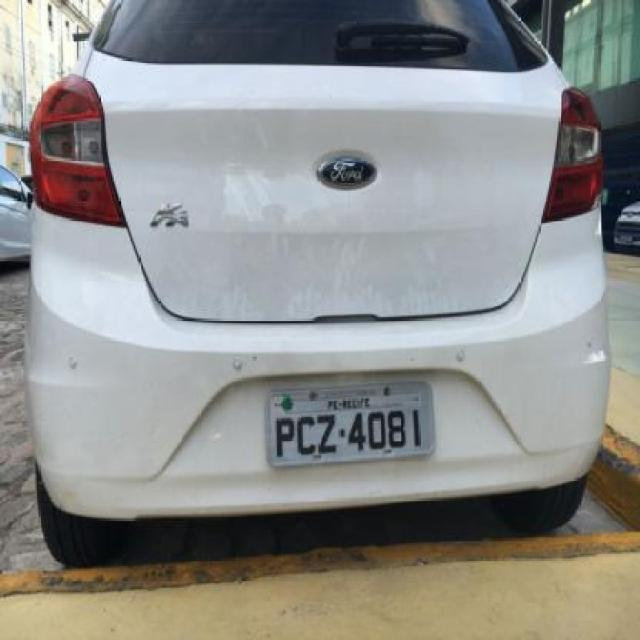old_plate: (262, 375, 441, 476)
